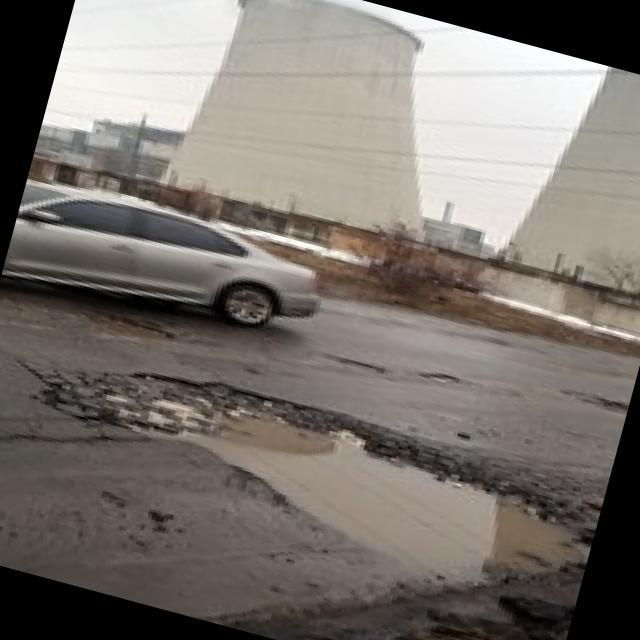Pothole: (13, 334, 607, 618), (580, 388, 630, 418), (334, 354, 386, 376), (417, 365, 460, 388)
